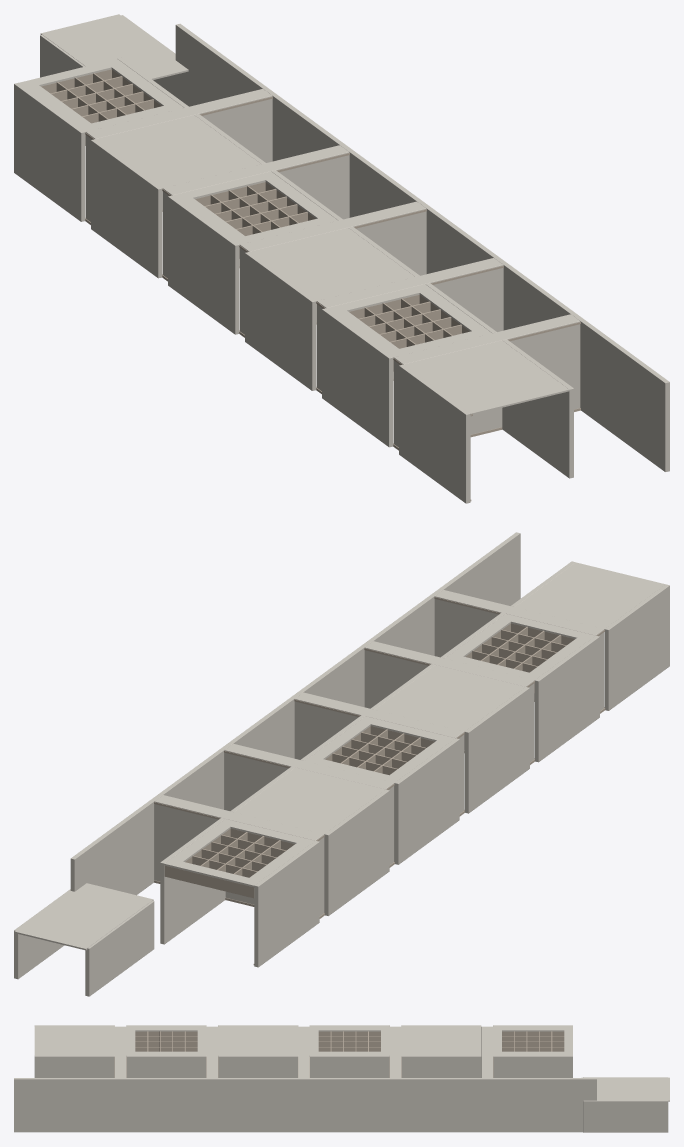
The model's file is salon-shell.glb.
3 views of the same model, one above another, from view 1: azimuth 30°, elevation 25°; view 2: azimuth 150°, elevation 25°; view 3: azimuth 270°, elevation 25° (orthographic). The views are drawn at different scales.
Parts seen in each view (by area): view 1: feat-0, base1-0; view 2: feat-0, base1-0; view 3: feat-0, base1-0.
Boxes of the visible parts, left/top/right/bottom form: feat-0: left=14, top=14, right=669, bottom=503; base1-0: left=41, top=69, right=580, bottom=500; feat-0: left=14, top=532, right=669, bottom=996; base1-0: left=154, top=597, right=605, bottom=964; feat-0: left=14, top=1025, right=669, bottom=1132; base1-0: left=114, top=1031, right=564, bottom=1077.
Size of the model in its own units: 16.85 by 7.6 by 85.17.
